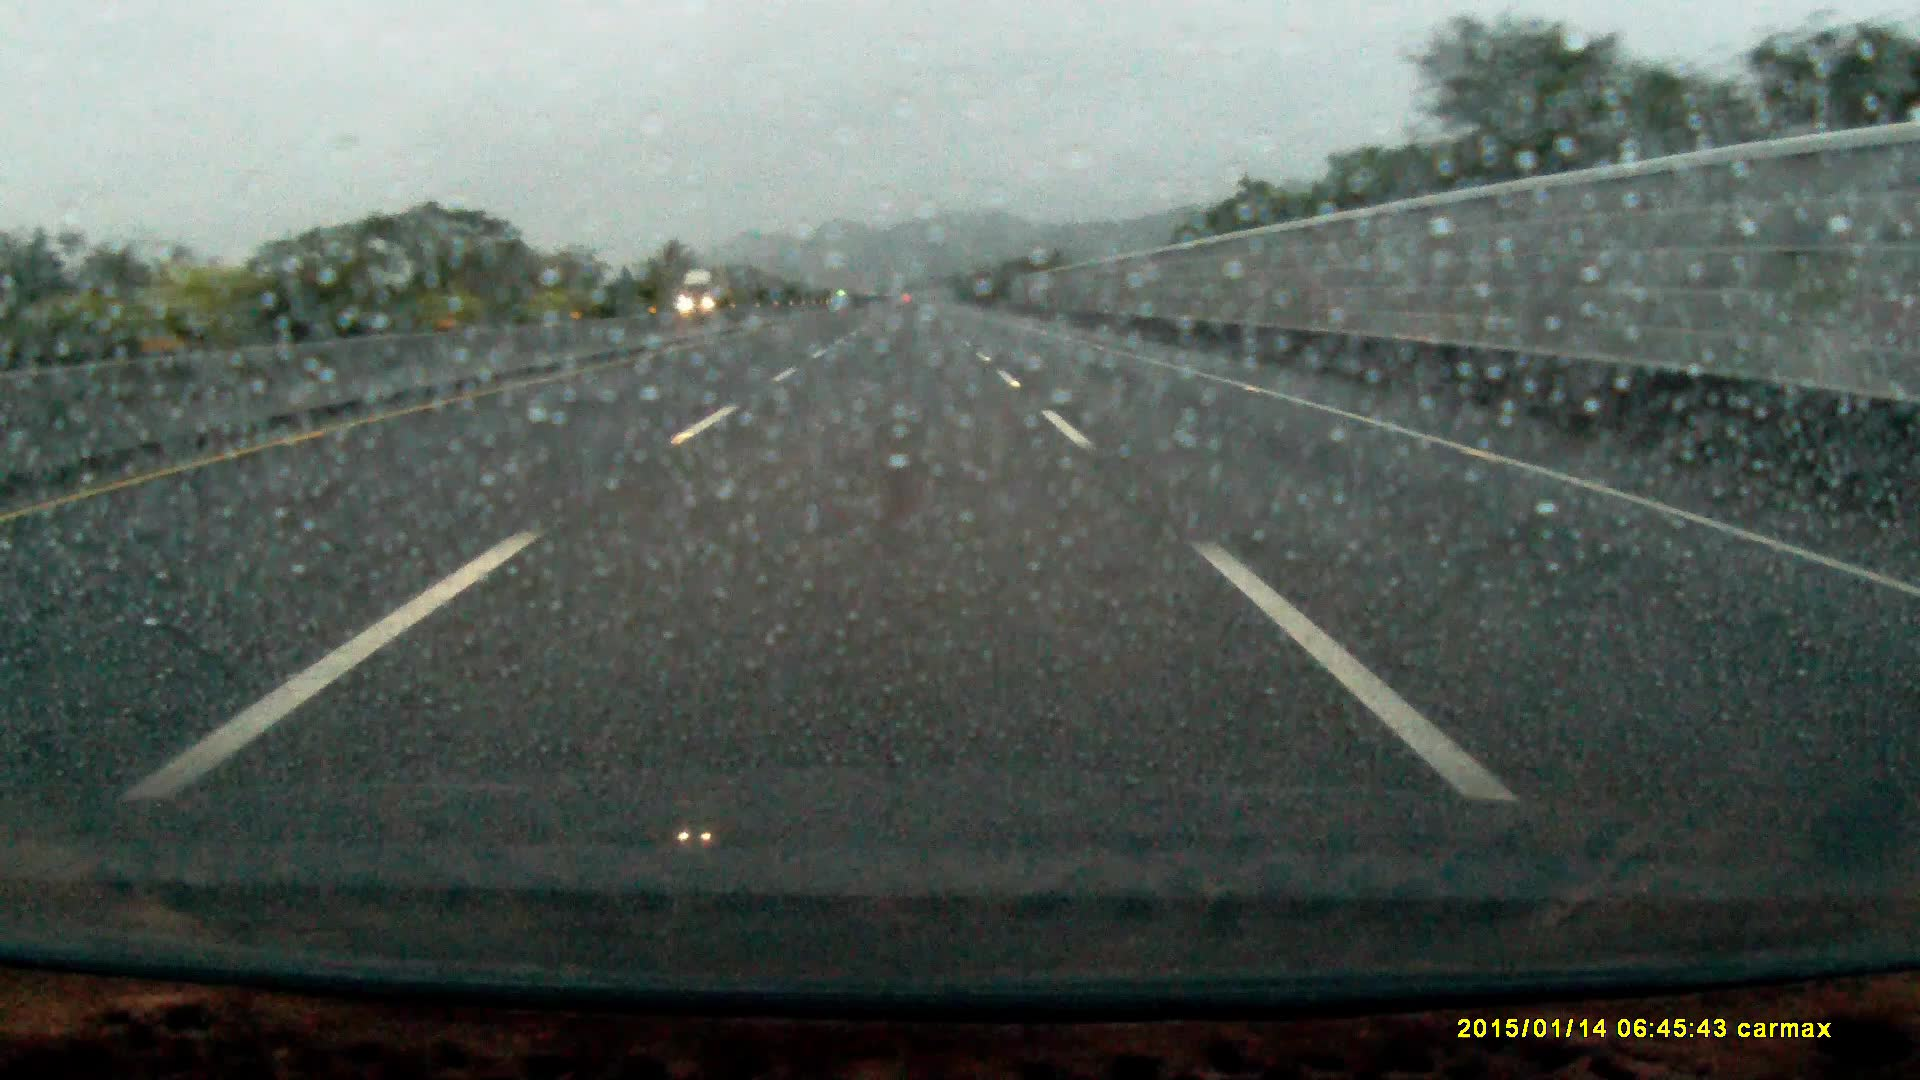vehicle: (676, 272, 733, 318)
